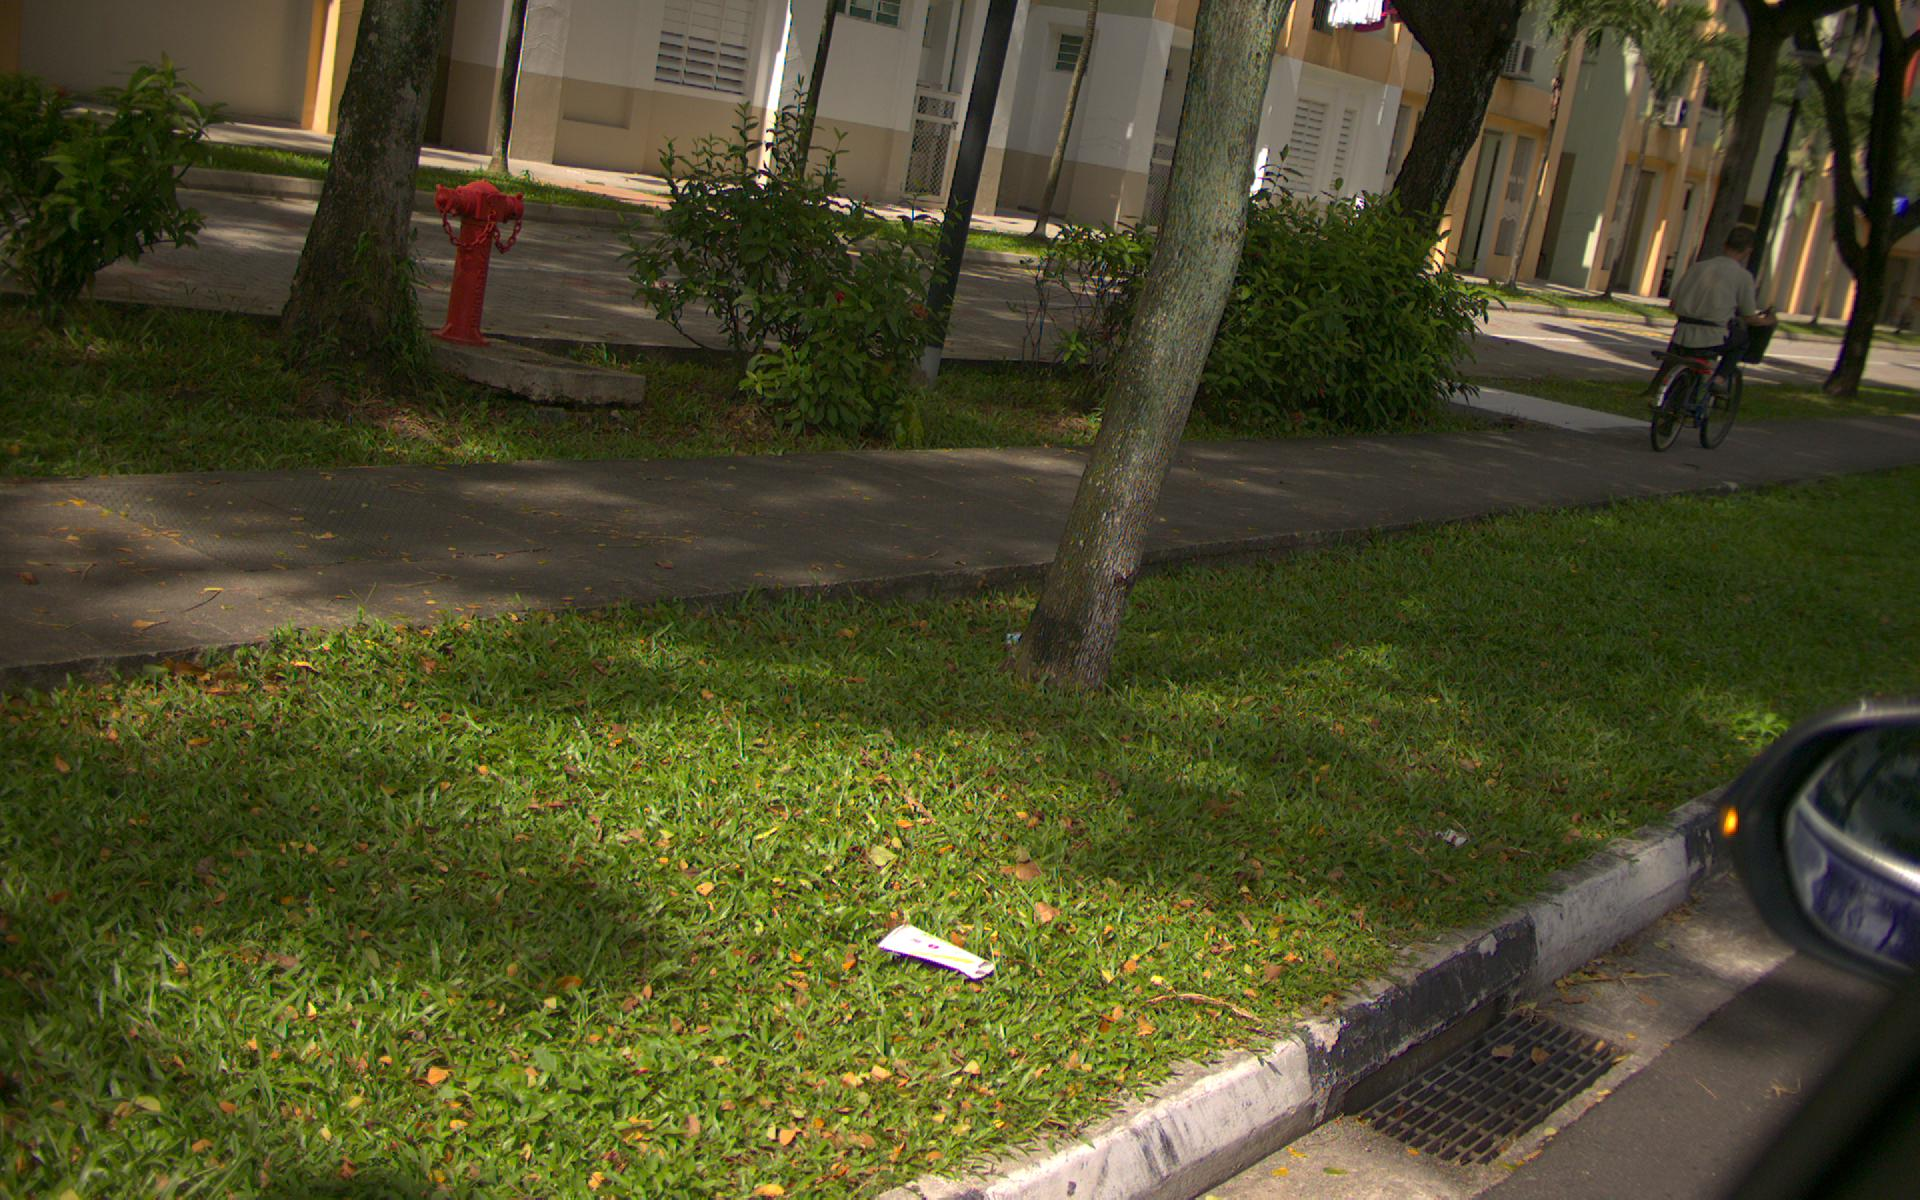curb_dic_low: (1313, 958, 1689, 1192)
pathway_low: (10, 476, 912, 597), (1204, 435, 1655, 512)
road_turf_low: (1, 648, 1019, 1143), (1197, 564, 1762, 782)
